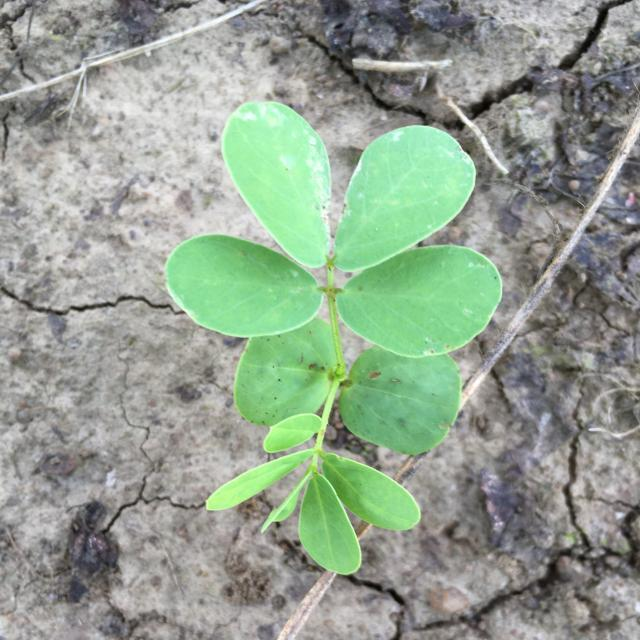Sicklepod: (165, 101, 503, 574)
